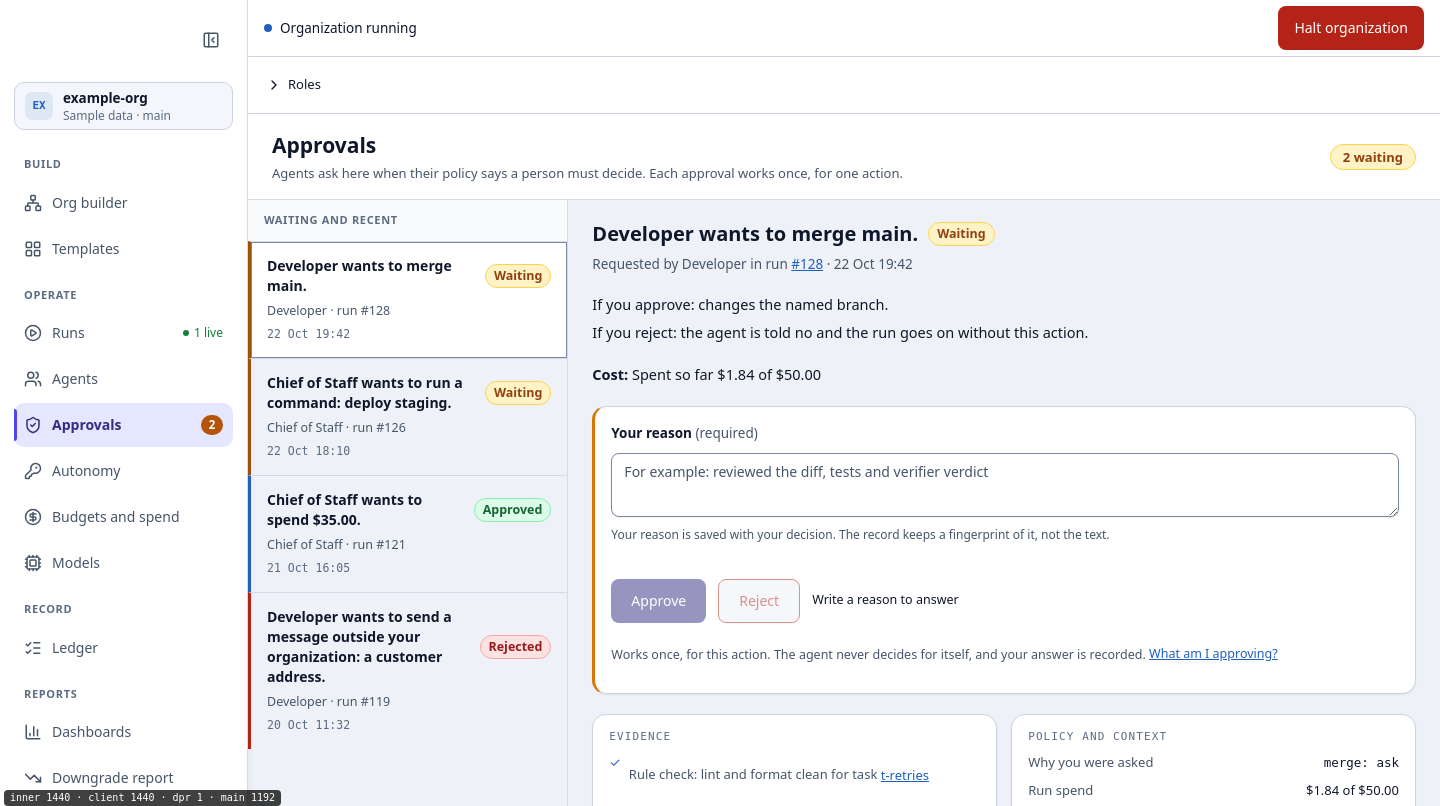
Test case: Approvals › acknowledge_required on the approvals page does not mention a tick box that is not there
Type "ok merge" into the text box labelled "Your reason (required)".
click(1005, 485); type("ok merge")  # box [611,453,1399,517]
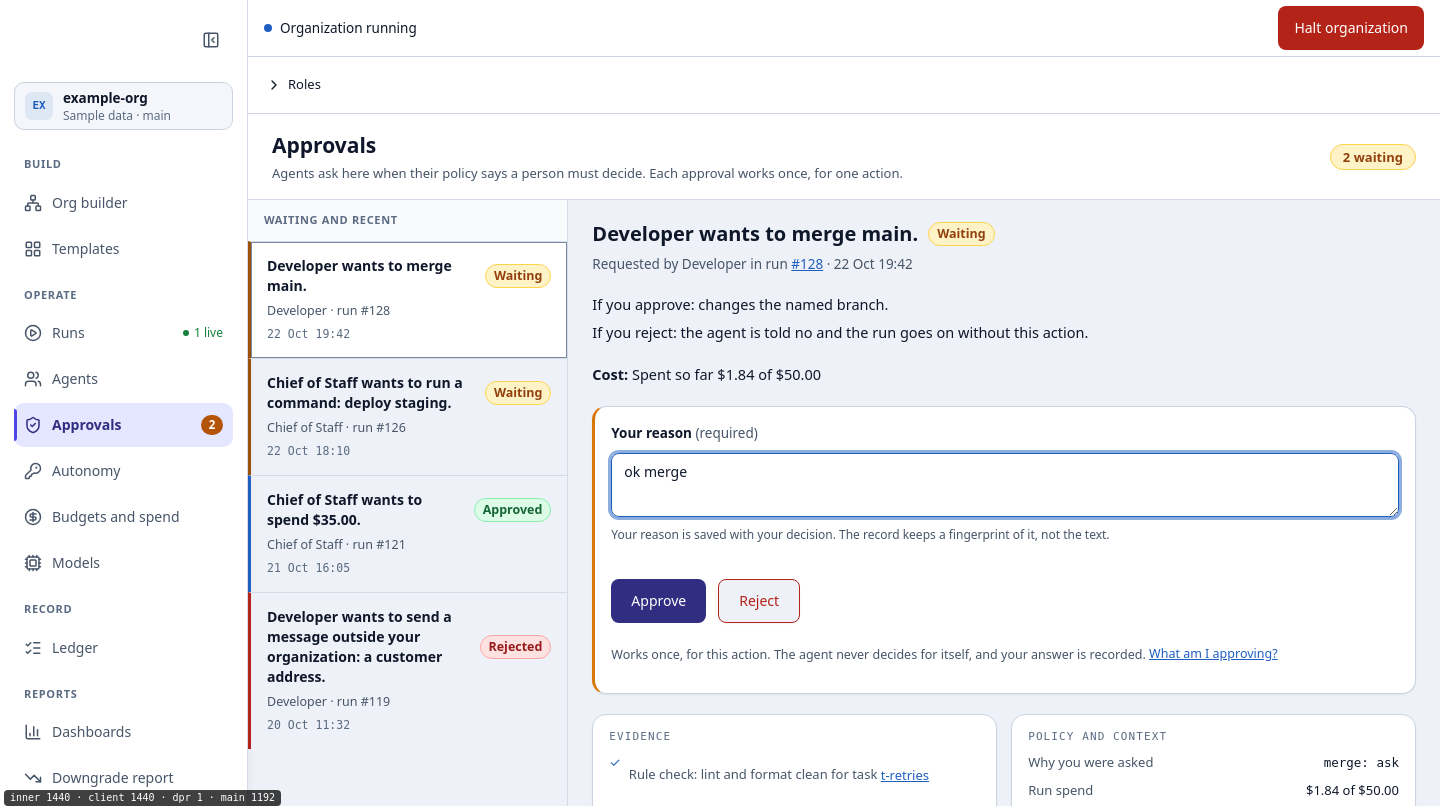
Click the button "Approve".
click(659, 601)  # box [611,579,706,623]
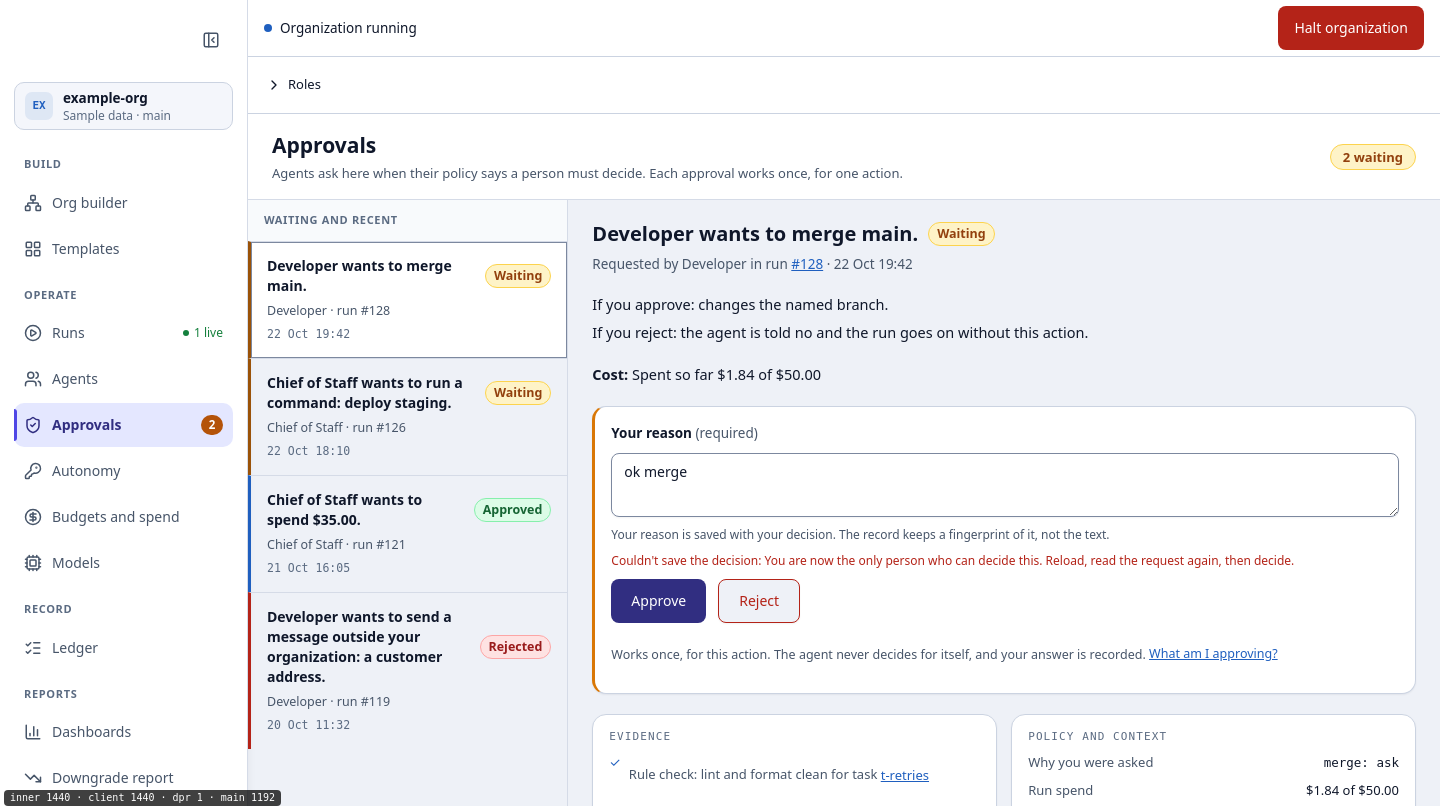
Expected: the message does not show "tick", [611,553,1399,569]
Expected: the message shows "You are now the only person who can decide this. Reload, read the request again, then decide.", [611,552,1294,569]
